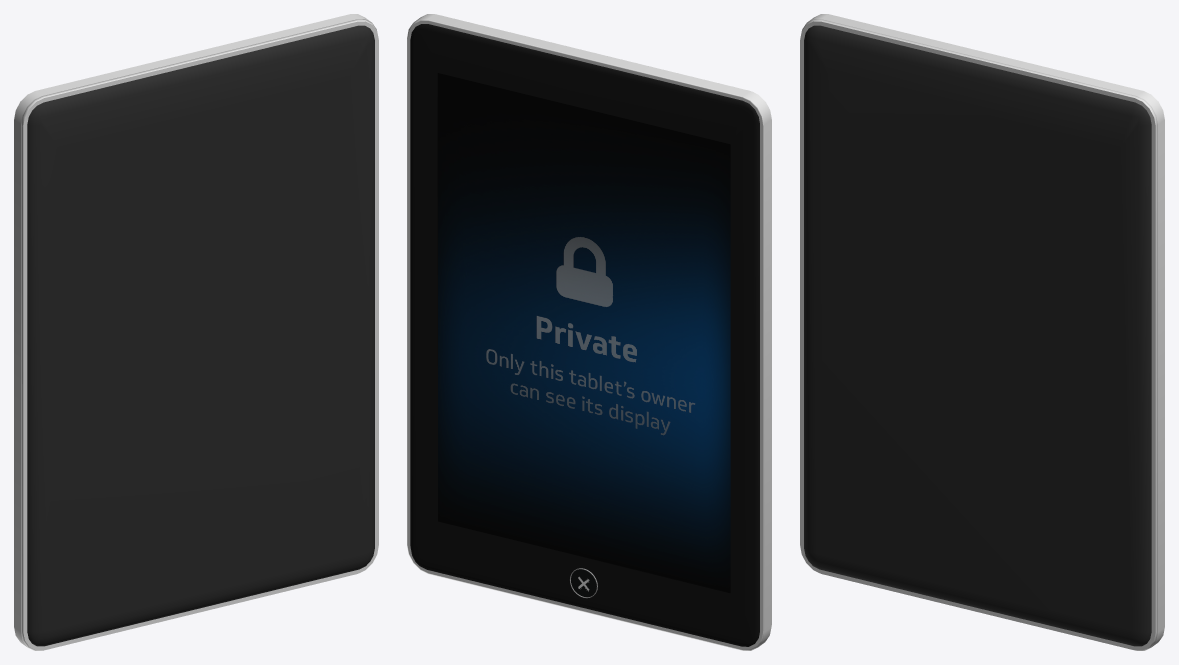
Rendered from tablet-with-home-button.fbx.
3 views of the same model, side by side, from view 1: azimuth 30°, elevation 25°; view 2: azimuth 150°, elevation 25°; view 3: azimuth 330°, elevation 25° (orthographic).
Visible parts, largest first — view 1: Cylinder.002; view 2: Cylinder.002, Cylinder.001; view 3: Cylinder.002.
Boxes of the visible parts, x1,y1,x2,y2 form: Cylinder.002: (14, 14, 378, 650); Cylinder.002: (407, 14, 771, 650); Cylinder.001: (571, 569, 596, 596); Cylinder.002: (800, 14, 1164, 650).
Size of the model in its own units: 33.79 by 50.13 by 2.34.
6 materials, 3 textured.
